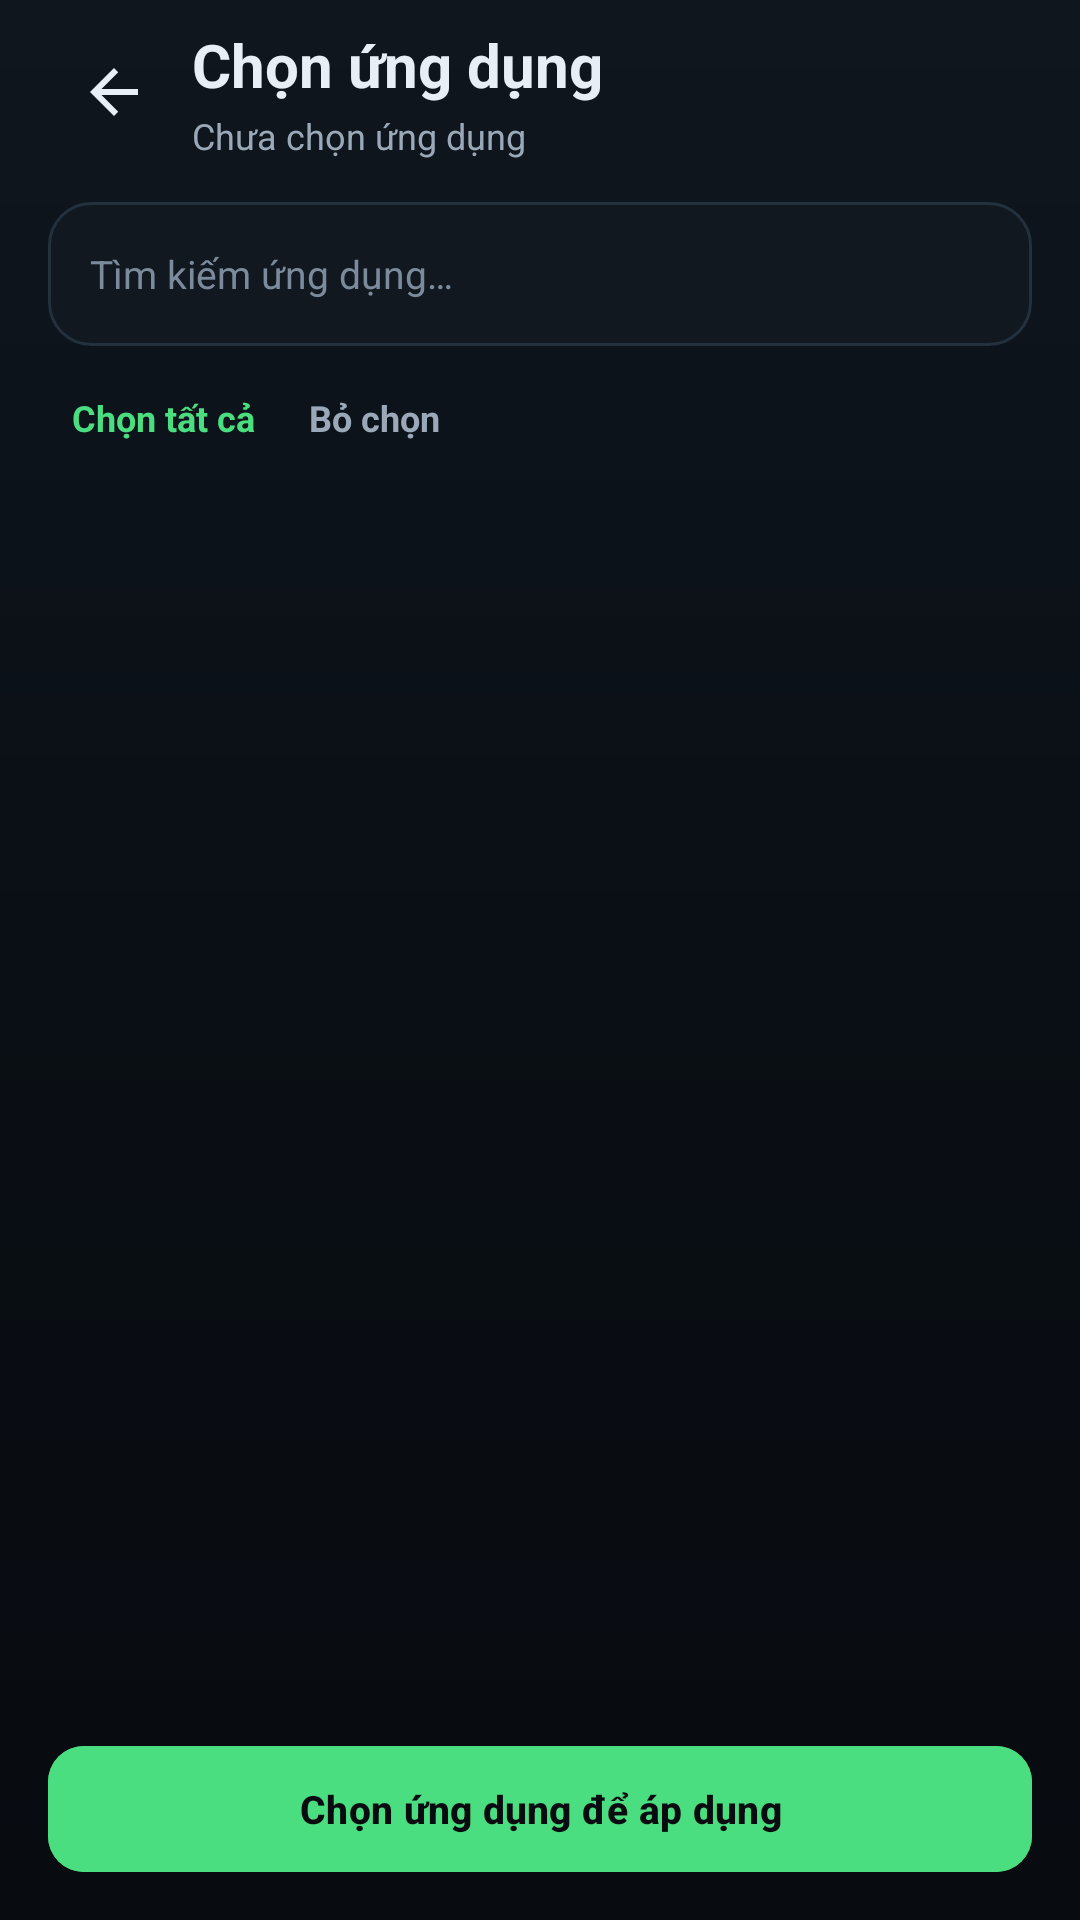

Where icons sit on this 1080×1920 app screen, as region(x1, y1, x2, y2):
Quay lại: region(90, 68, 138, 116)
